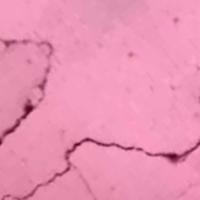crack: (7, 92, 197, 197)
